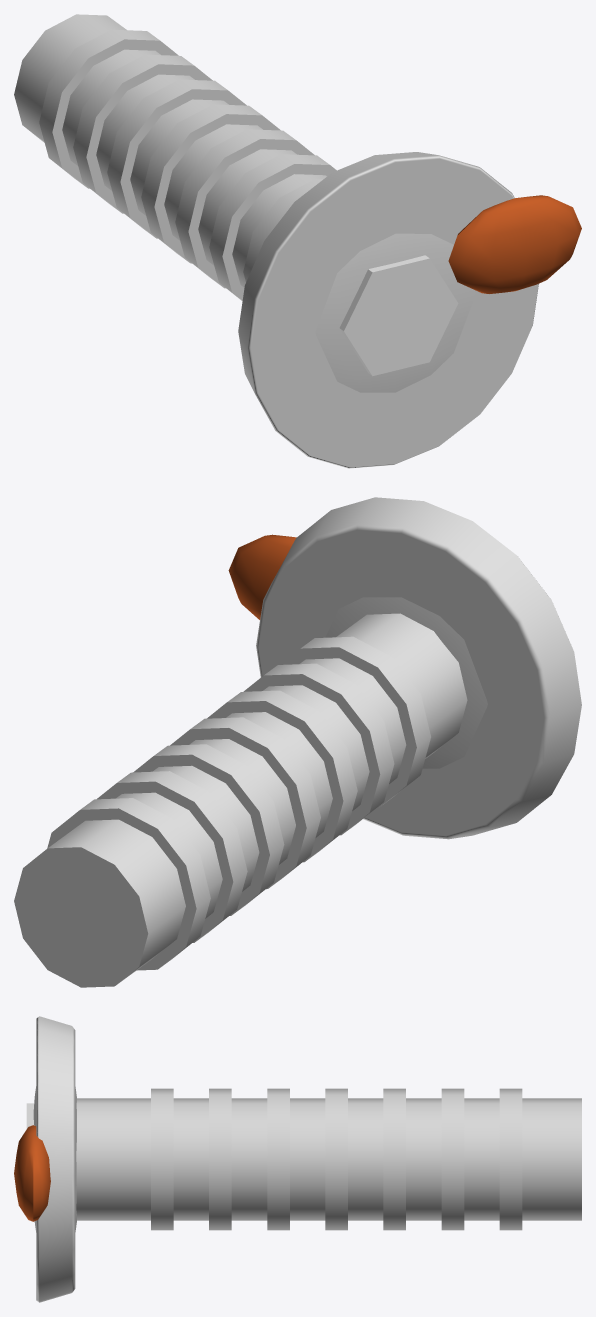
File: WorkerHand_FastenerB.fbx
3 renders of one model, top to bottom at view 1: azimuth 30°, elevation 25°; view 2: azimuth 150°, elevation 25°; view 3: azimuth 270°, elevation 25°, orthographic. The views are drawn at different scales.
Visible parts, largest first — view 1: Hand_FastenerB_Head, Hand_FastenerB_Shank, Hand_FastenerB_Socket, Hand_FastenerB_TamperPaint; view 2: Hand_FastenerB_Shank, Hand_FastenerB_Head, Hand_FastenerB_TamperPaint; view 3: Hand_FastenerB_Shank, Hand_FastenerB_Head, Hand_FastenerB_TamperPaint.
Boxes of the visible parts, bbox=[...] form: Hand_FastenerB_Head: bbox=[238, 152, 538, 468]; Hand_FastenerB_Shank: bbox=[14, 14, 336, 300]; Hand_FastenerB_Socket: bbox=[339, 255, 458, 376]; Hand_FastenerB_TamperPaint: bbox=[448, 195, 581, 293]; Hand_FastenerB_Shank: bbox=[14, 613, 467, 987]; Hand_FastenerB_Head: bbox=[256, 497, 581, 839]; Hand_FastenerB_TamperPaint: bbox=[228, 534, 296, 619]; Hand_FastenerB_Shank: bbox=[76, 1088, 581, 1230]; Hand_FastenerB_Head: bbox=[33, 1016, 76, 1302]; Hand_FastenerB_TamperPaint: bbox=[14, 1125, 50, 1221].
Size of the model in its own units: 0.0101 by 0.00894 by 0.0176.
